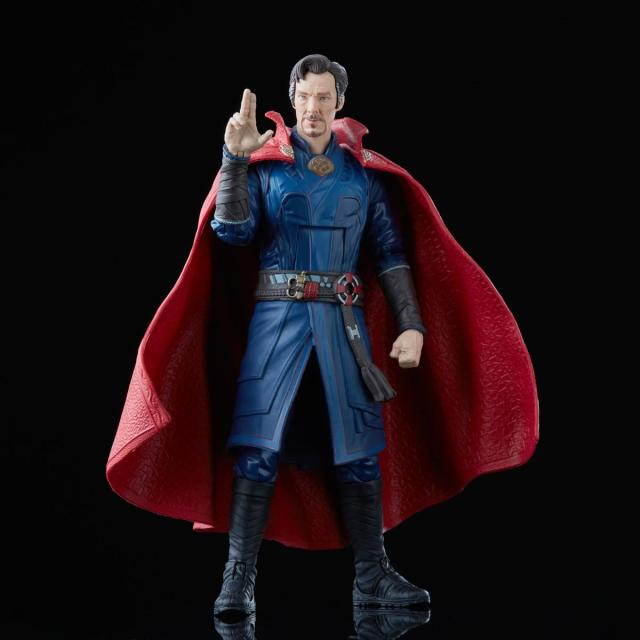doctor_strange: (227, 26, 438, 372)
